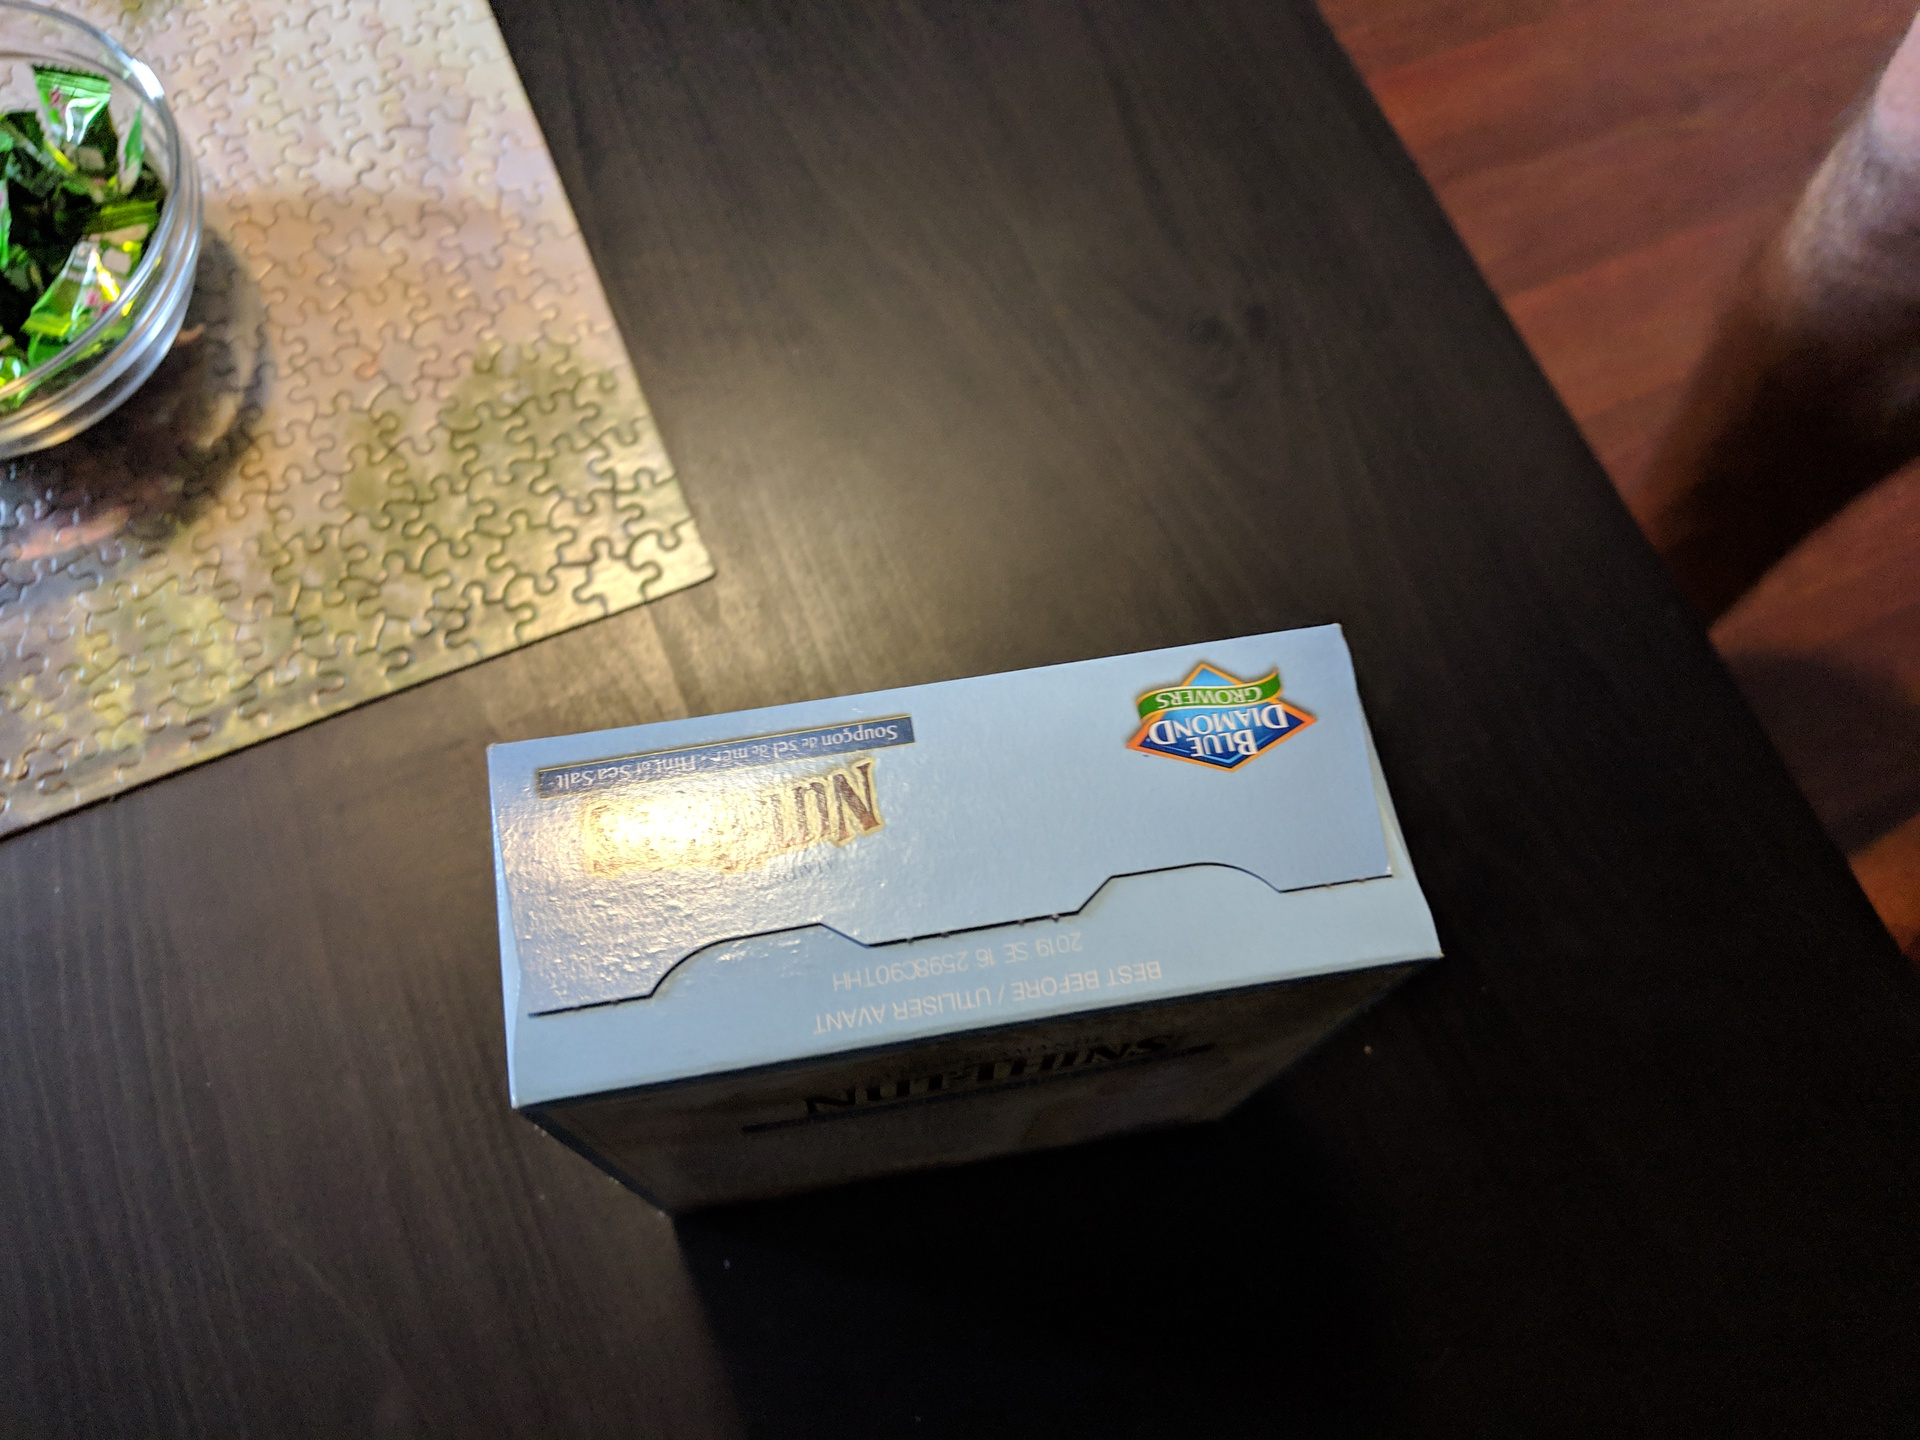blue_diamond_nut_thins_almond_seasalt: (500, 644, 1414, 1177)
